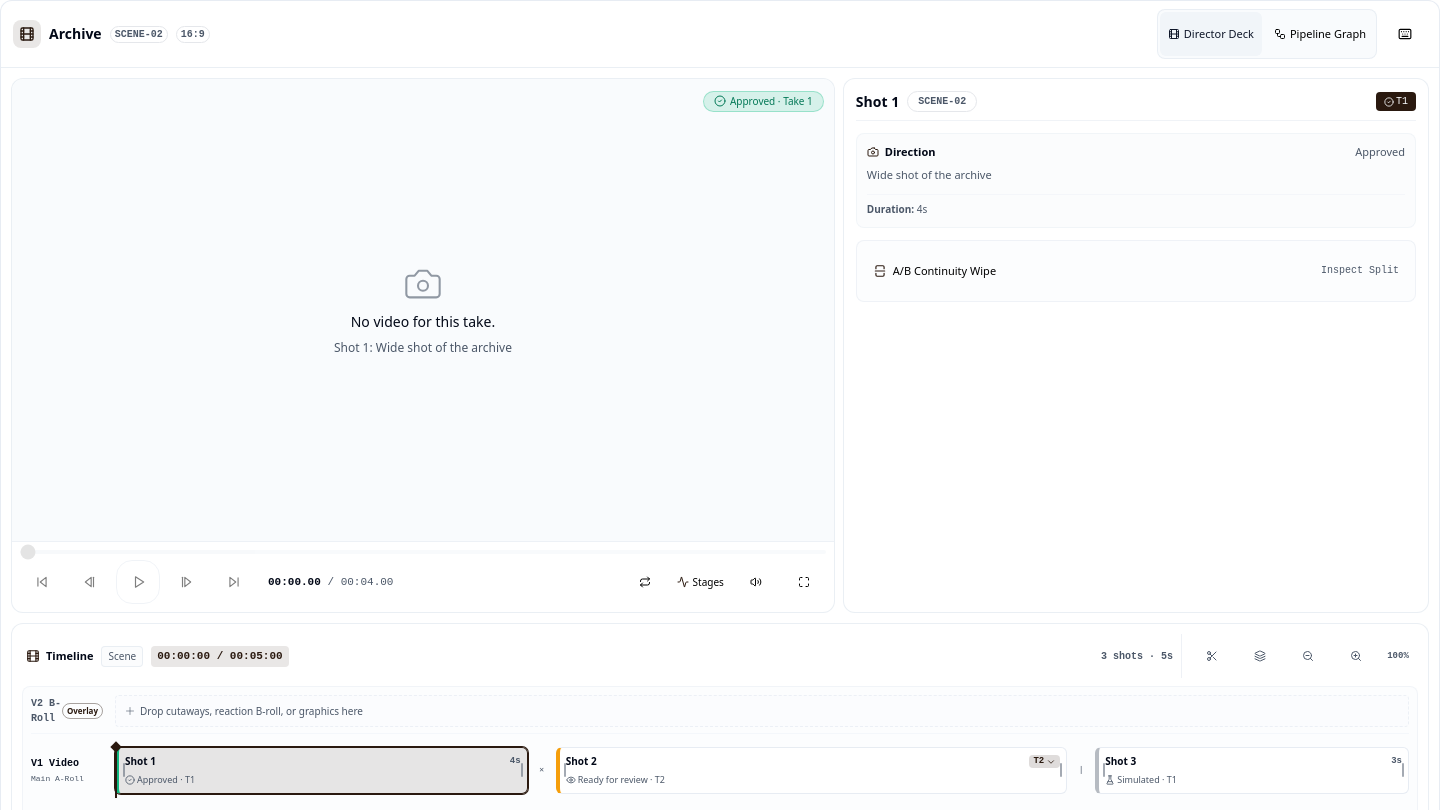
Test: MediaStudioPod › says a simulated take has no video, and offers nothing to play
Click the button with test id "timeline-shot-clip-3". click: (1147, 780)
box: x1=1095 y1=747 x2=1409 y2=794
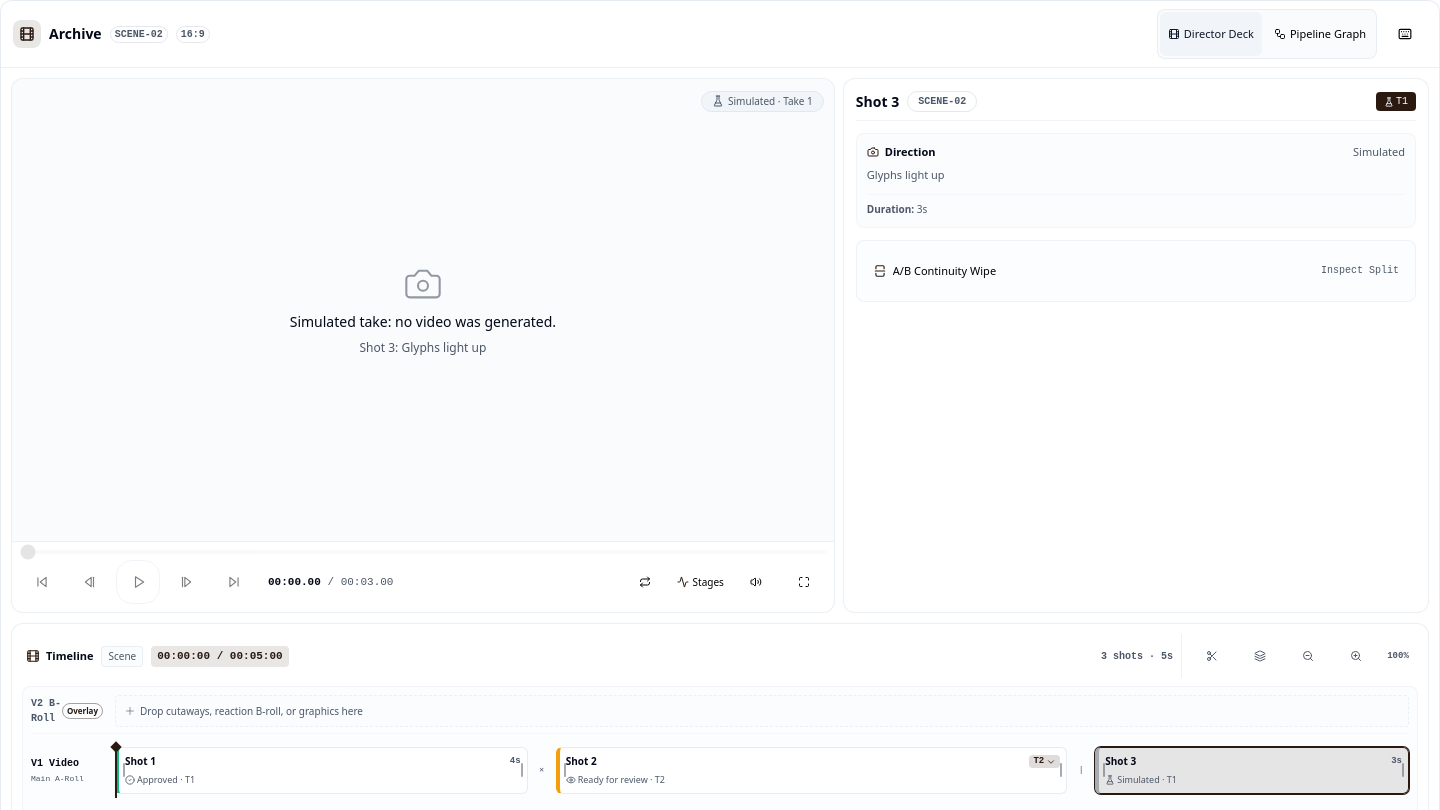
Expected: the button with test id "stage-play-pause-btn" is disabled, x1=116 y1=560 x2=160 y2=604
Expected: the element with test id "stage-no-video" shows "Simulated take: no video was generated.", x1=290 y1=312 x2=556 y2=331
